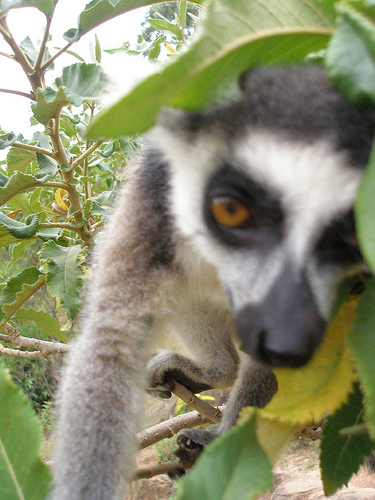cat: (48, 13, 373, 498)
